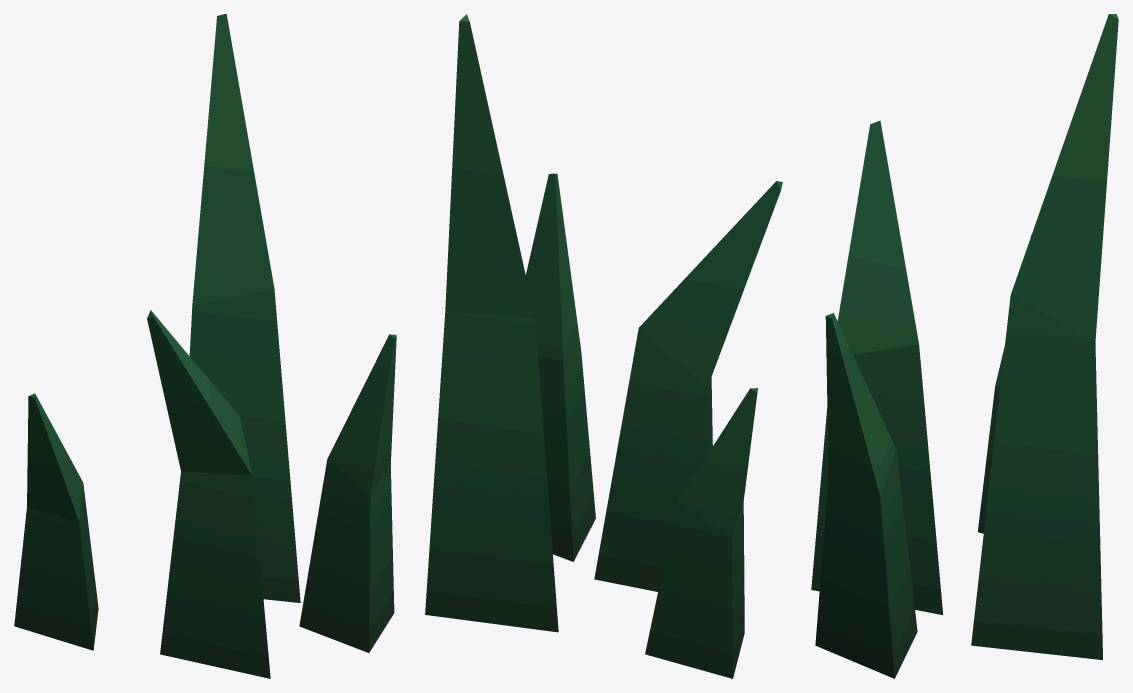
Rendered from SM_Grass.fbx.
3 renders of one model, left to right at view 1: azimuth 30°, elevation 25°; view 2: azimuth 150°, elevation 25°; view 3: azimuth 270°, elevation 25°, orthographic. The views are drawn at different scales.
Parts seen in each view (by area): view 1: Grass; view 2: Grass; view 3: Grass.
Part boxes in pixels (x1,y1,x2,y2): Grass: (14, 14, 396, 678); Grass: (425, 14, 782, 678); Grass: (811, 14, 1118, 678).
Bounding box in the file's own units: 1.52 × 2.63 × 1.18.
